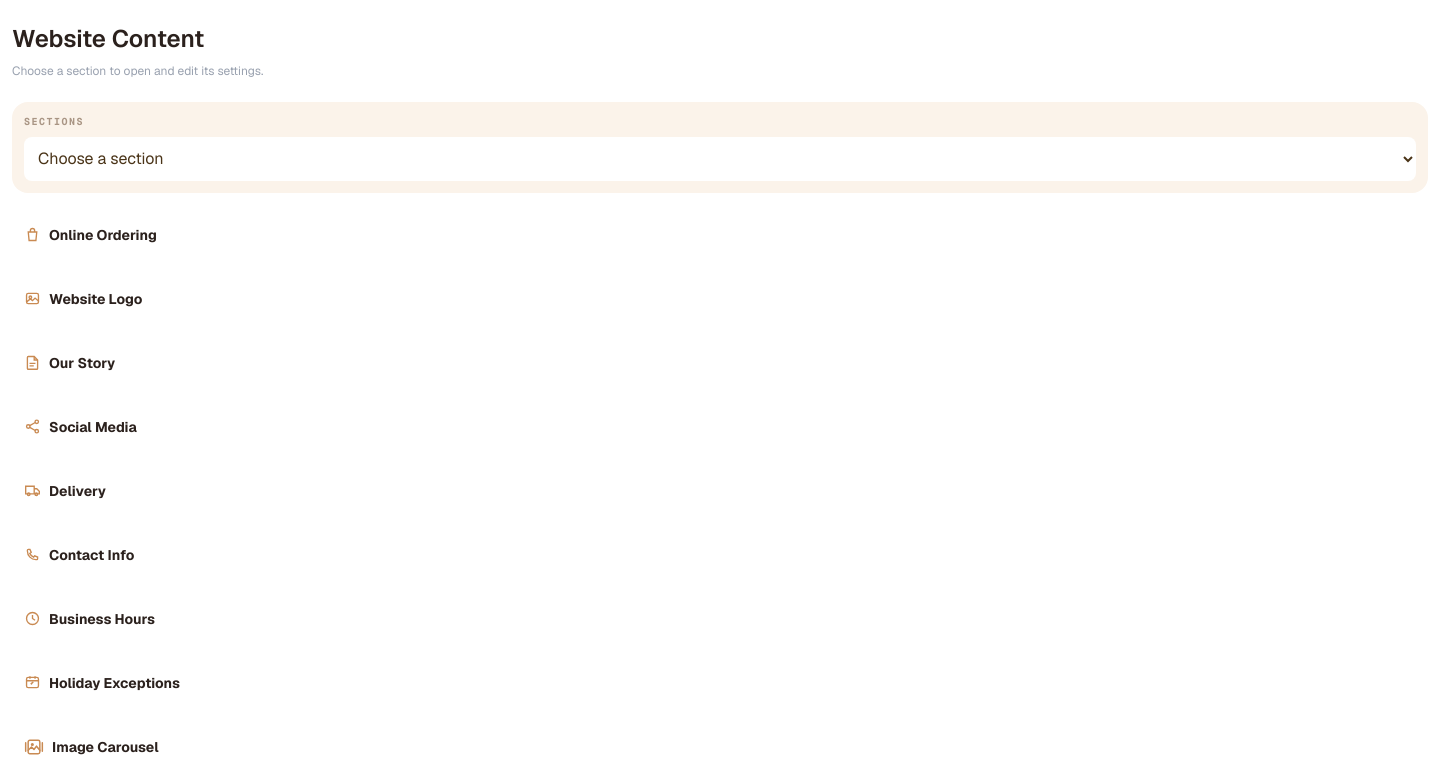
it: confirmed website content deletion › keeps the entry and confirmation open on server failure, then allows retry
The image size is (1440, 783).
Select "Social Media" in the dropdown labelled "Sections": (720, 158) [24,136,1416,180]
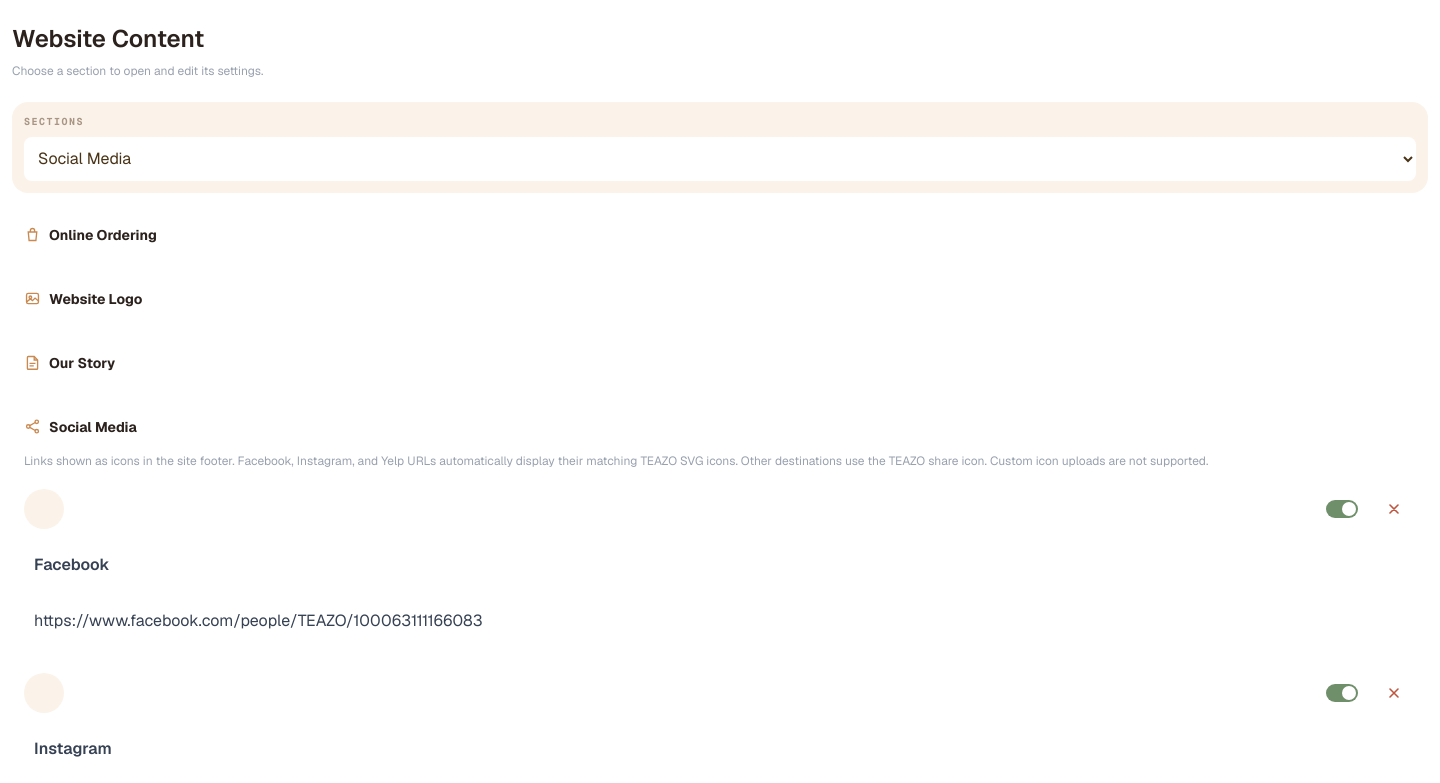
Click the button named "Remove Facebook": (1394, 508) [1372,486,1416,530]
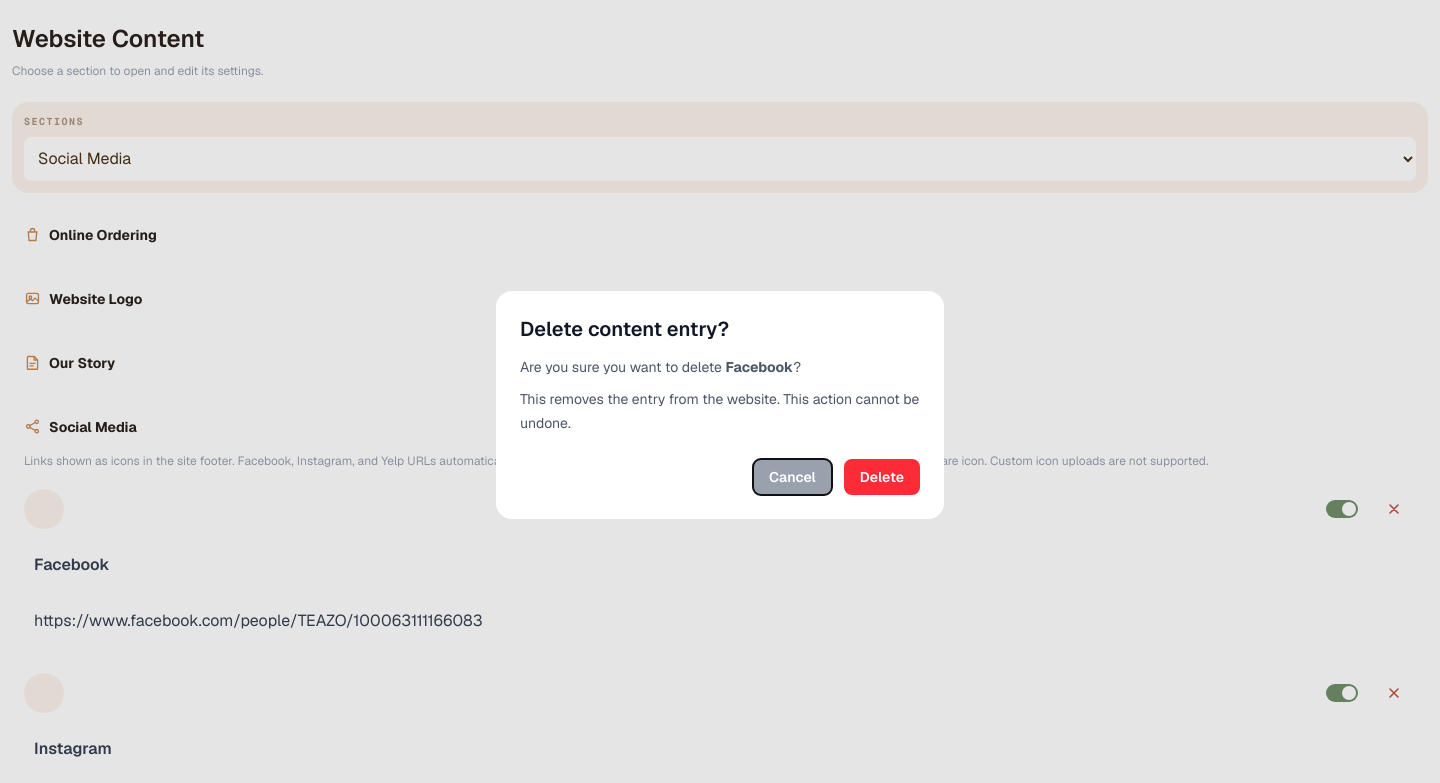
Click the button "Delete": (882, 477) [844,459,920,495]
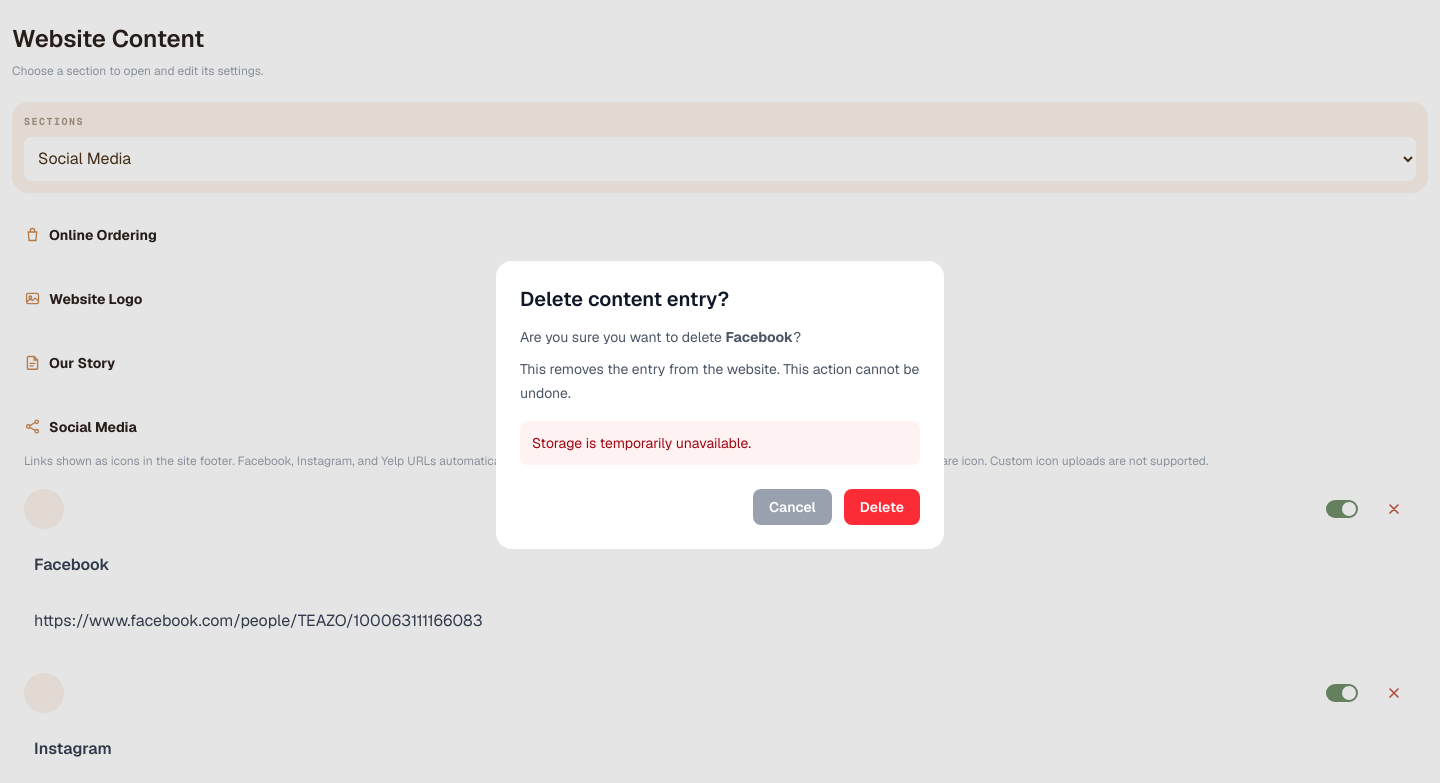
Check: the dialog is shown, box [496,261,944,549]
Check: the button named "Remove Facebook" is shown, box [1372,486,1416,530]
Check: the text "Storage is temporarily unavailable." is shown, box [520,421,920,465]
Click the button "Delete": (882, 507) [844,489,920,525]
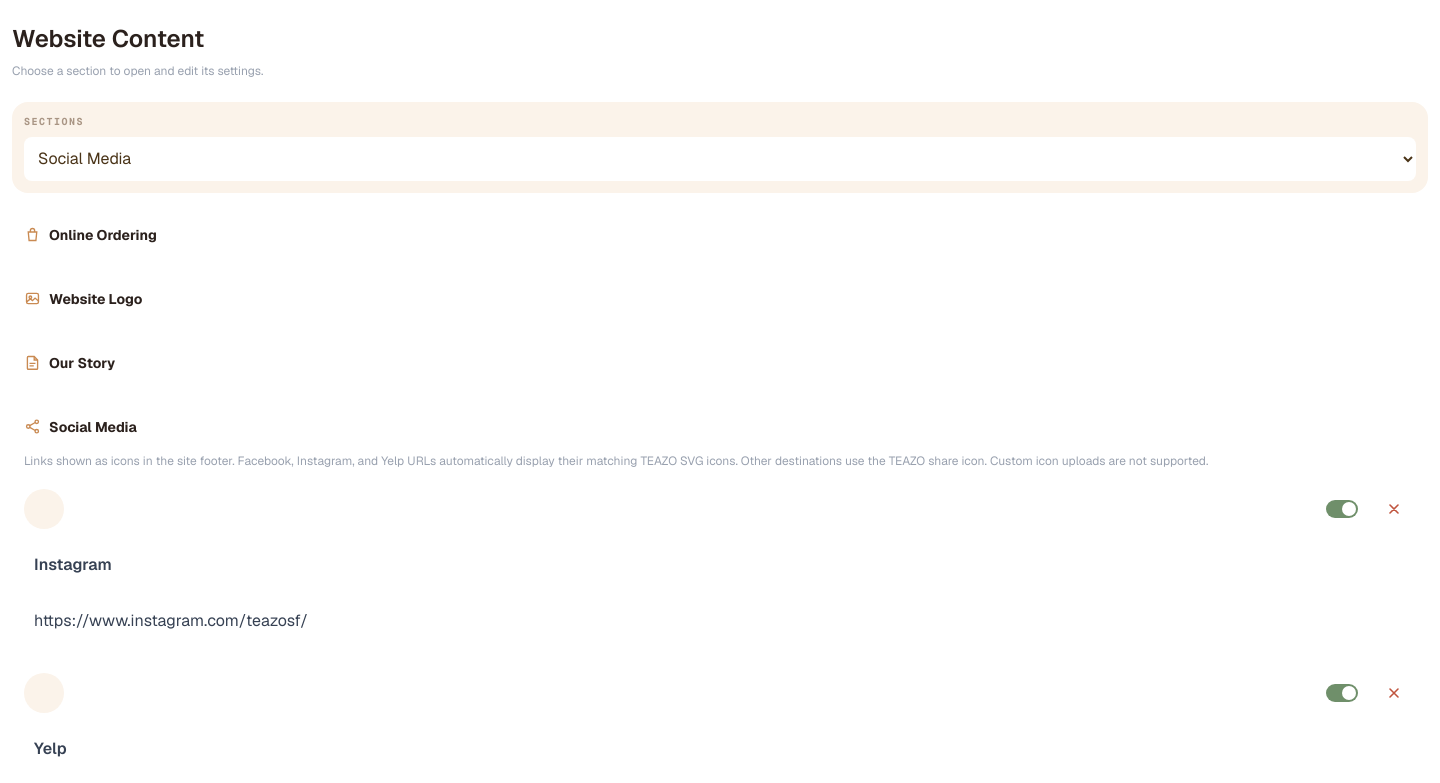
Check: the dialog is gone
